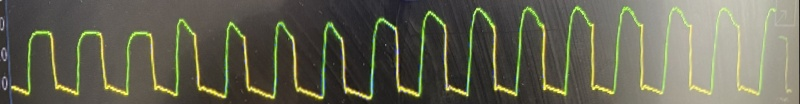normal_pressure: (11, 0, 795, 104)
